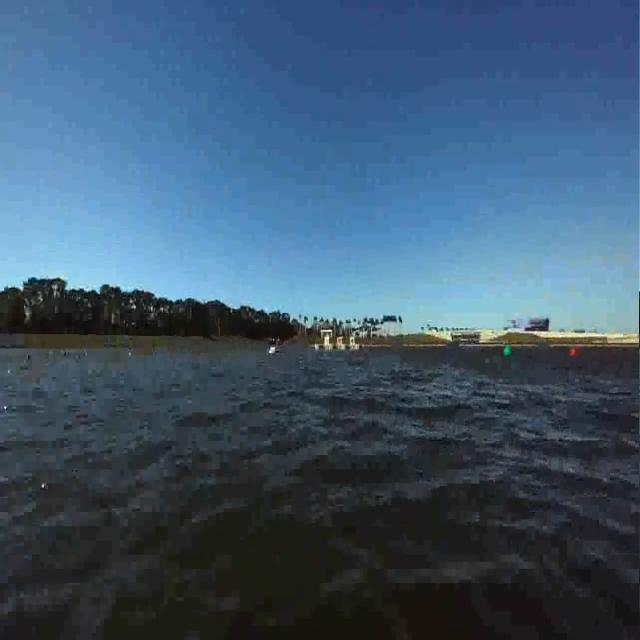green-buoy: (502, 346, 512, 359)
